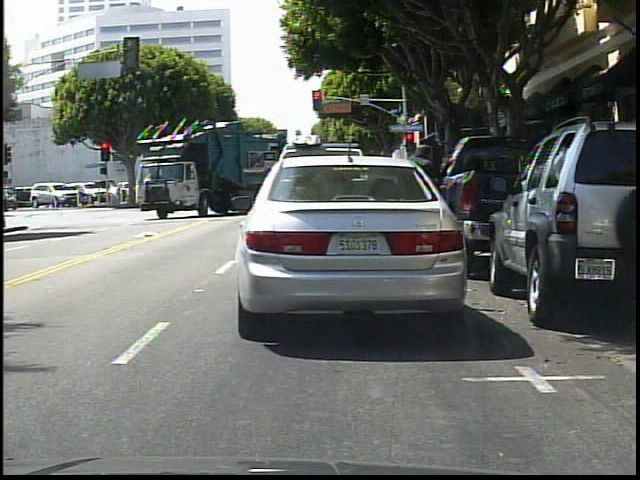person: (391, 140, 448, 268)
